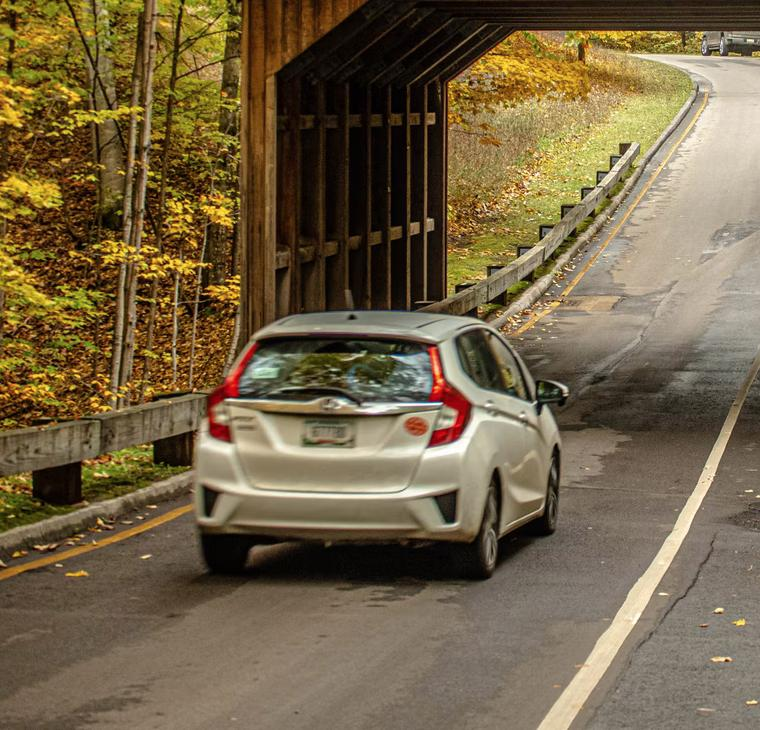car: (161, 273, 622, 618)
